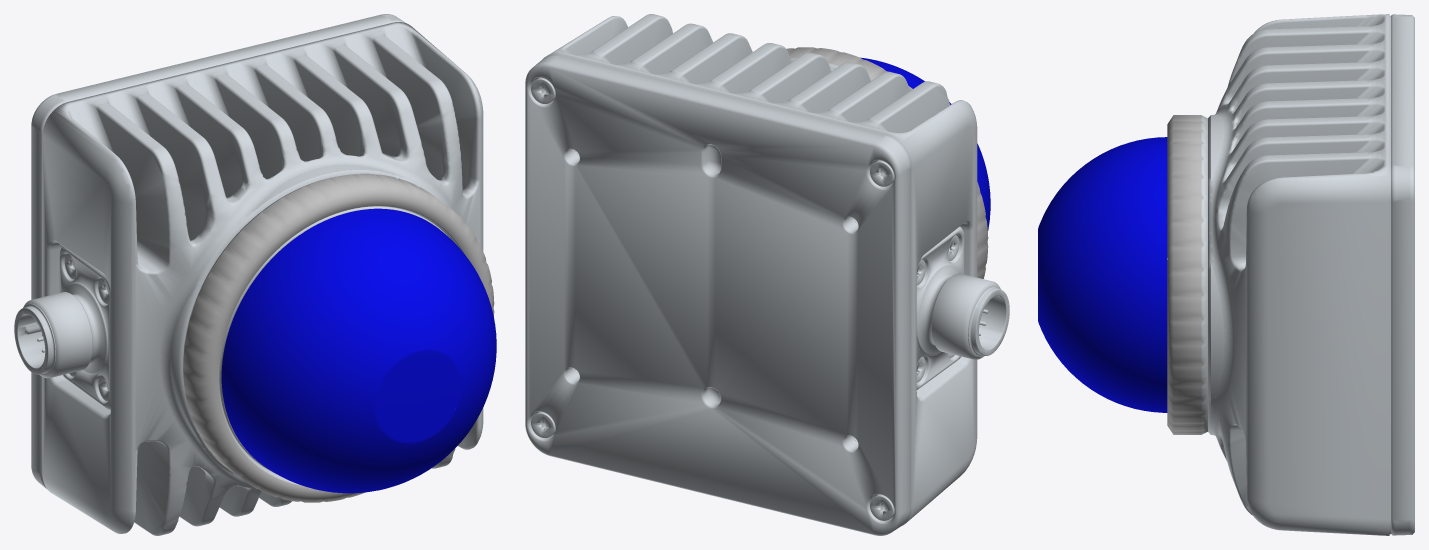
The model's file is mid360.glb.
3 views of the same model, side by side, from view 1: azimuth 30°, elevation 25°; view 2: azimuth 150°, elevation 25°; view 3: azimuth 270°, elevation 25° (orthographic). The views are drawn at different scales.
Bounding box in the file's own units: 0.0727 × 0.0649 × 0.0601.
